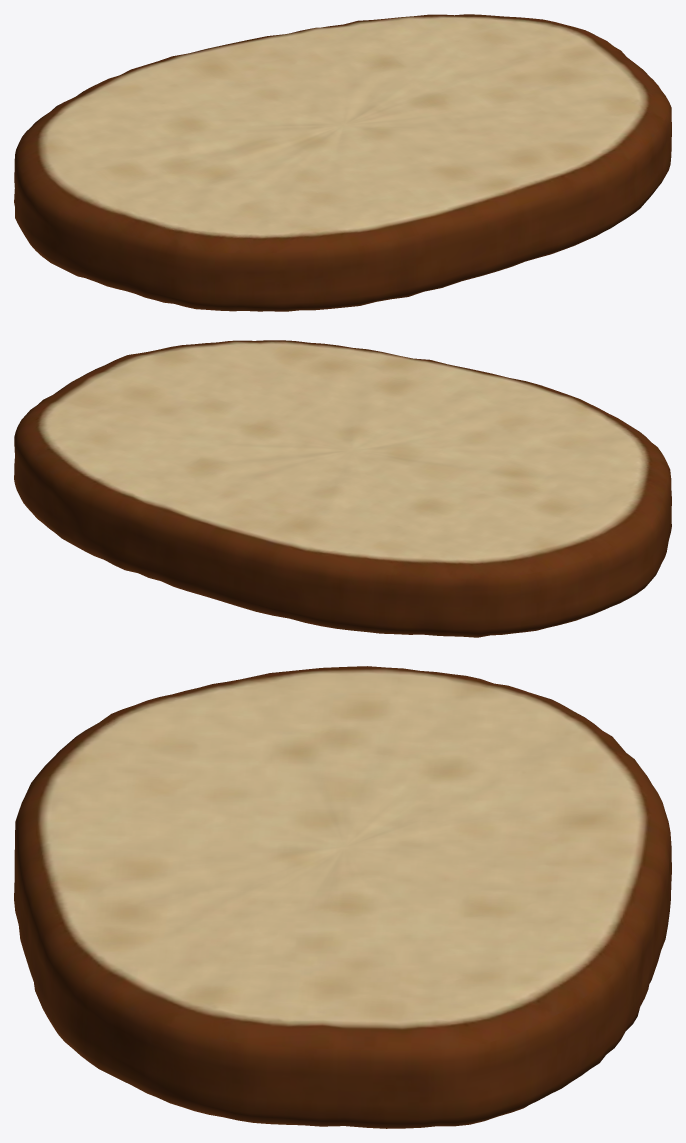
File: bread_sour_bottom.glb
3 renders of one model, top to bottom at view 1: azimuth 30°, elevation 25°; view 2: azimuth 150°, elevation 25°; view 3: azimuth 270°, elevation 25°, orthographic. The views are drawn at different scales.
Parts seen in each view (by area): view 1: EX_Bread_sour_bottom; view 2: EX_Bread_sour_bottom; view 3: EX_Bread_sour_bottom.
Boxes of the visible parts, x1,y1,x2,y2 form: EX_Bread_sour_bottom: (14, 14, 671, 311); EX_Bread_sour_bottom: (14, 340, 671, 637); EX_Bread_sour_bottom: (14, 666, 671, 1128).
Size of the model in its own units: 0.1327 by 0.0166 by 0.0952.
1 material, 1 textured.
